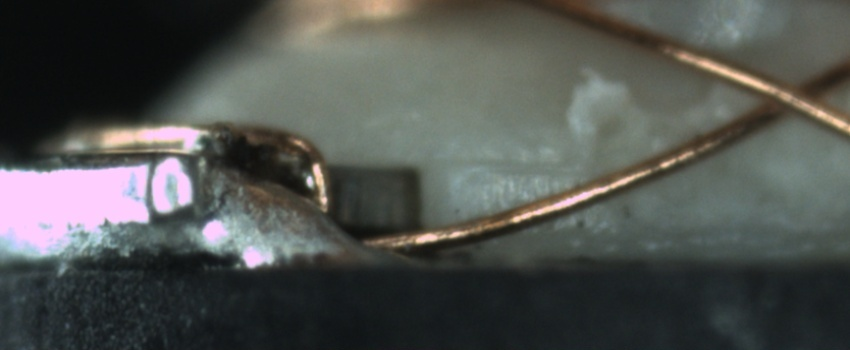CL: (737, 59, 843, 133)
DL: (444, 131, 576, 190)
TE: (54, 119, 340, 229)
